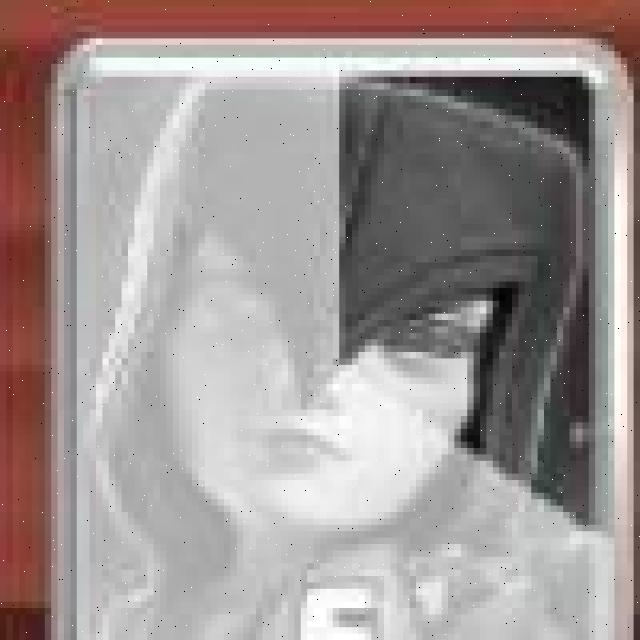Witch: (54, 41, 640, 640)
